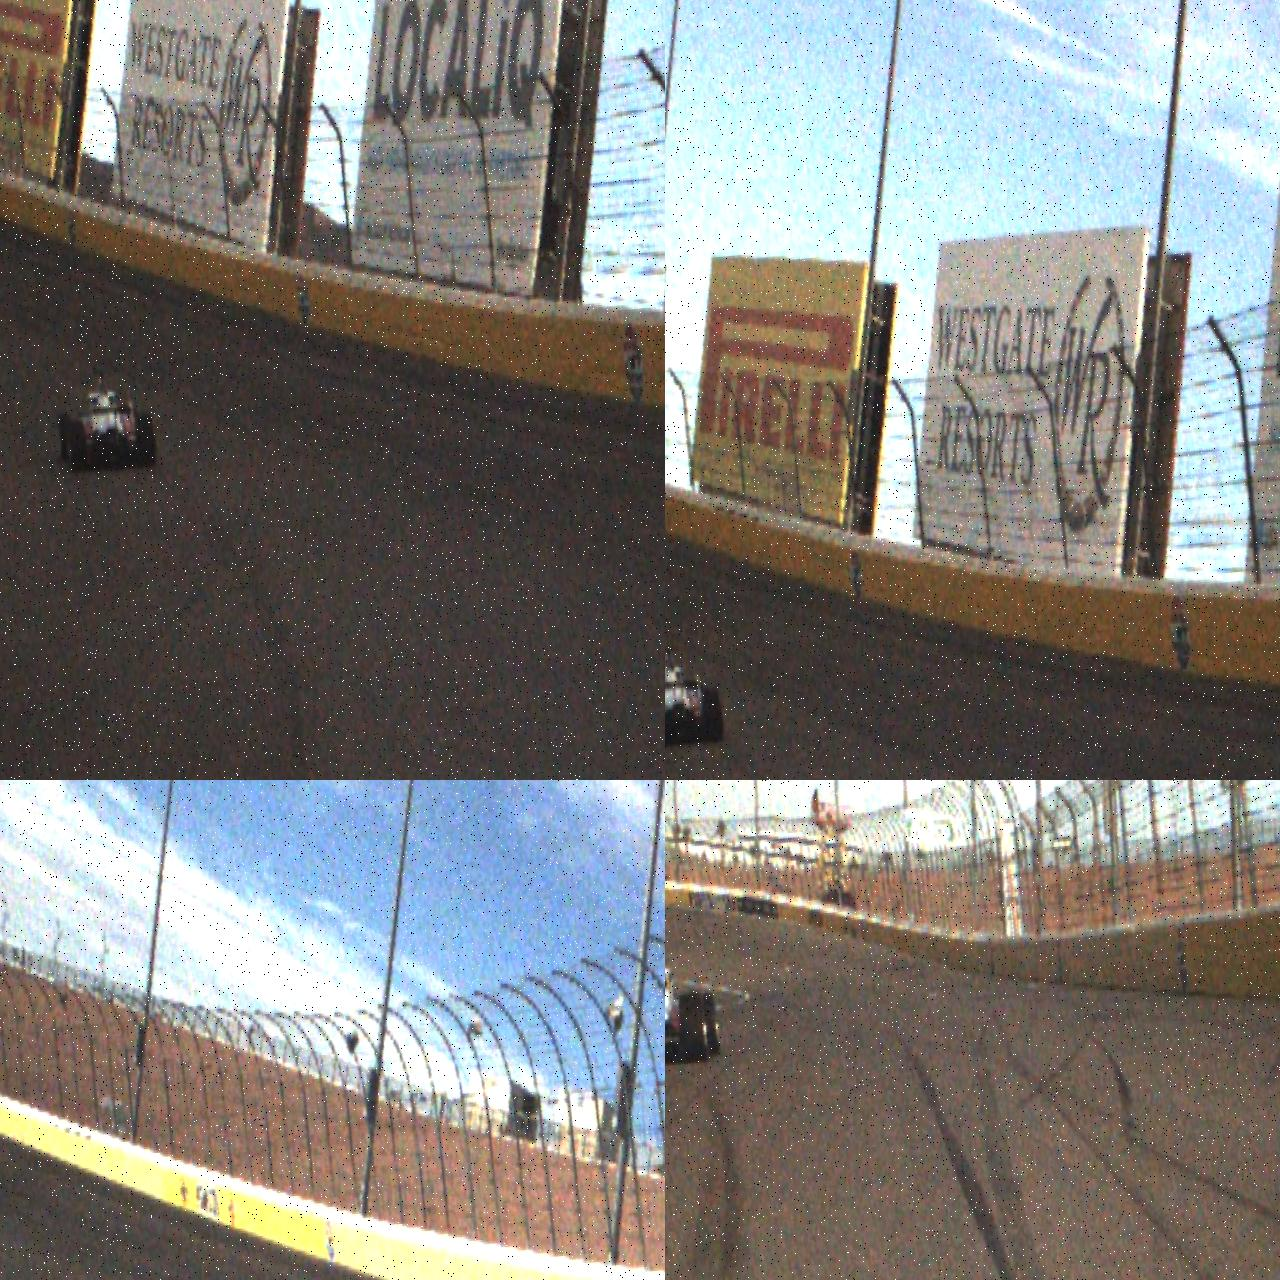AV: (52, 362, 159, 477), (665, 930, 722, 1074), (665, 641, 726, 751)
Wheel: (678, 993, 708, 1065), (696, 993, 722, 1058), (702, 687, 726, 743), (136, 413, 158, 469), (67, 421, 89, 476), (55, 413, 75, 462)
